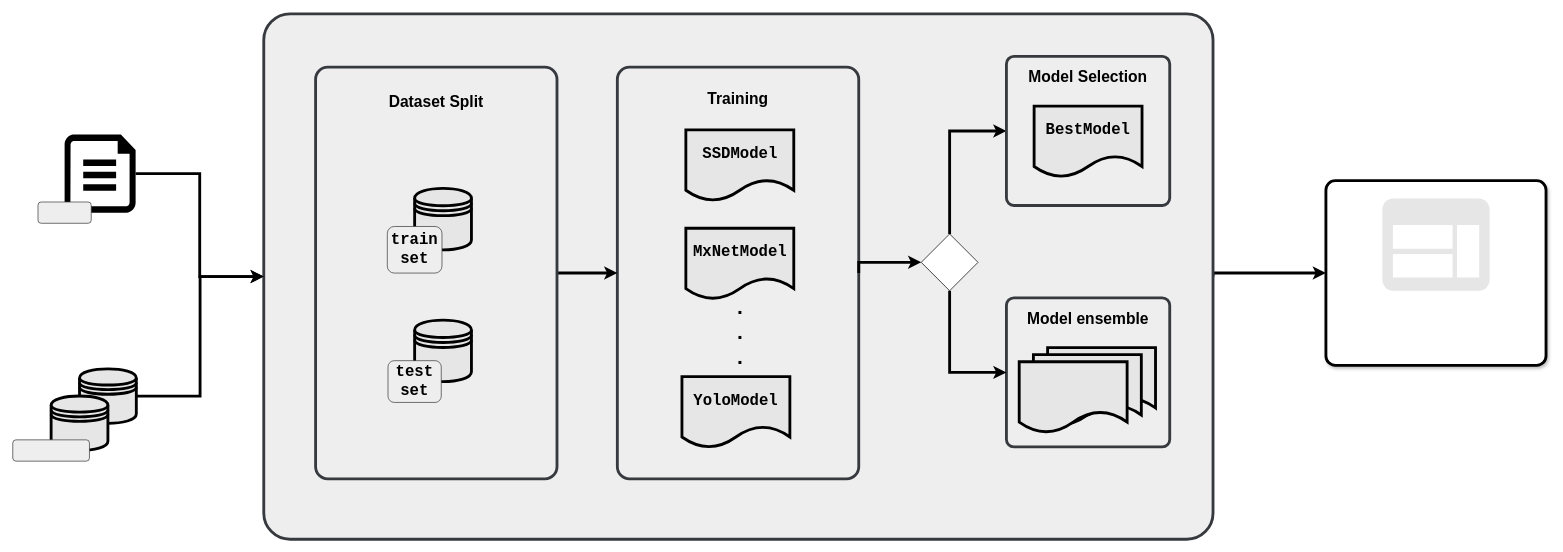
Image size: 1563x552. Some labels were removed from this diagram. Each missing label, with the centre of its shape:
"Application" goes at point 1436,273.
"dataset" goes at point 50,450.
"json" goes at point 64,212.
